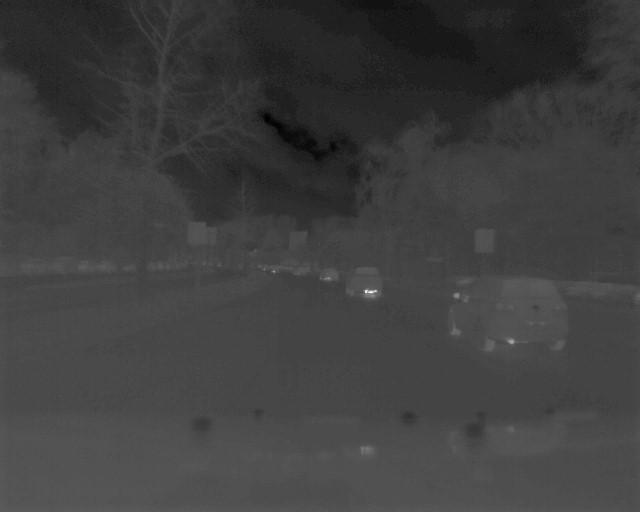car: (443, 268, 575, 353), (344, 263, 384, 296)
